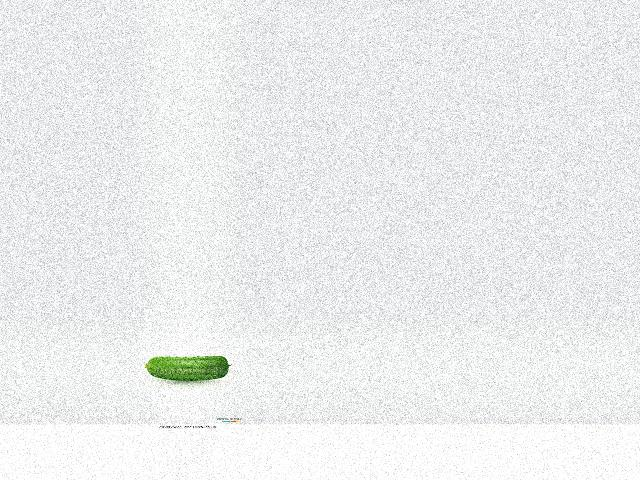cucumber: (143, 355, 231, 380)
